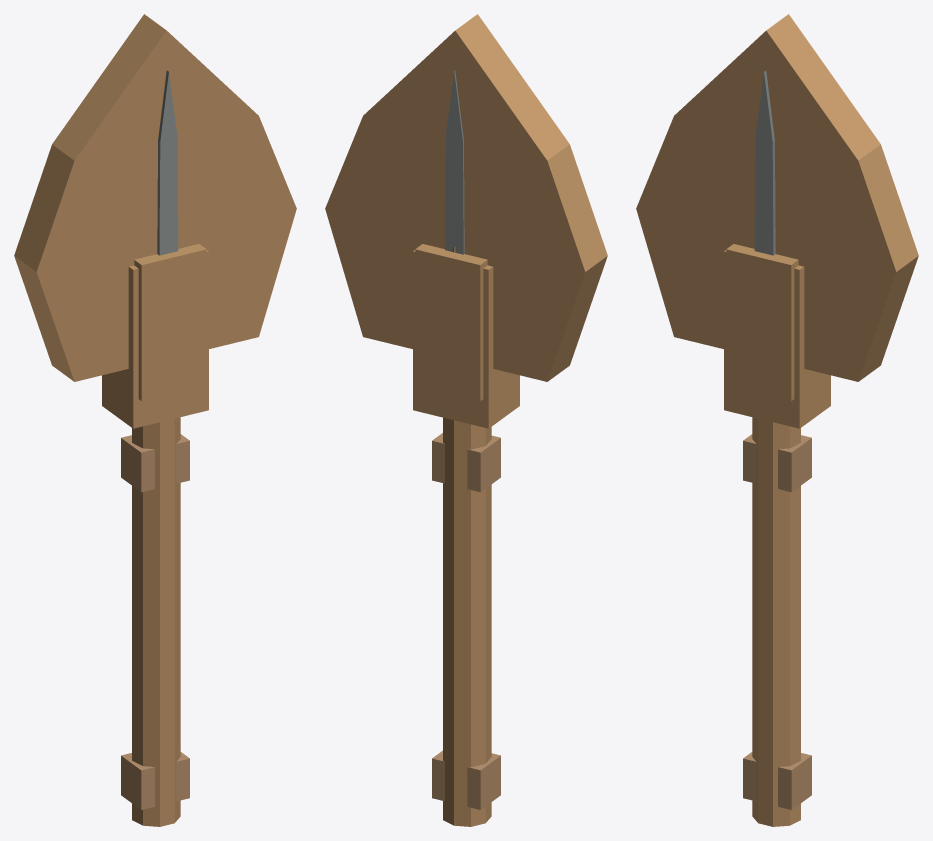
The model's file is woodenShovel.glb.
The picture shows the model from 3 angles, left to right: view 1: azimuth 30°, elevation 25°; view 2: azimuth 150°, elevation 25°; view 3: azimuth 330°, elevation 25°; orthographic projection.
Parts seen in each view (by area): view 1: ShovelBlade, Handle, ToolHeadSocket, ShovelSocket, ShovelRidge, GripWrapHigh, GripWrapLow; view 2: ShovelBlade, Handle, ToolHeadSocket, ShovelSocket, ShovelRidge, GripWrapHigh, GripWrapLow; view 3: ShovelBlade, Handle, ToolHeadSocket, ShovelSocket, ShovelRidge, GripWrapHigh, GripWrapLow.
Boxes of the visible parts, x1,y1,x2,y2 form: ShovelBlade: (14,14,296,381); Handle: (132,417,180,826); ToolHeadSocket: (134,244,206,401); ShovelSocket: (102,250,208,428); ShovelRidge: (157,70,178,255); GripWrapHigh: (121,434,189,492); GripWrapLow: (121,752,189,809); ShovelBlade: (325,14,607,381); Handle: (443,246,491,826); ToolHeadSocket: (415,244,487,401); ShovelSocket: (413,250,519,428); ShovelRidge: (445,70,464,254); GripWrapHigh: (432,433,500,492); GripWrapLow: (432,750,500,809); ShovelBlade: (636,14,918,381); Handle: (752,417,800,826); ToolHeadSocket: (726,244,798,401); ShovelSocket: (724,250,830,428); ShovelRidge: (754,70,775,255); GripWrapHigh: (743,434,811,492); GripWrapLow: (743,752,811,809).
Size of the model in its own units: 0.48 by 1.4 by 0.12.
